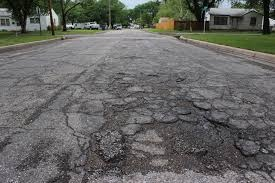pothole: (94, 117, 272, 177)
